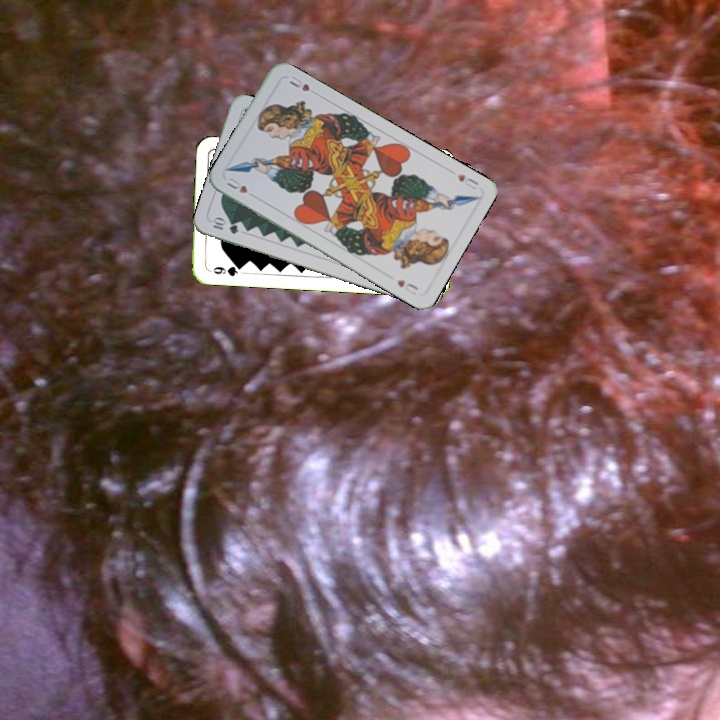G10: (207, 214, 241, 237)
G9: (204, 262, 245, 279)
HU: (223, 173, 250, 196), (453, 170, 481, 192)
